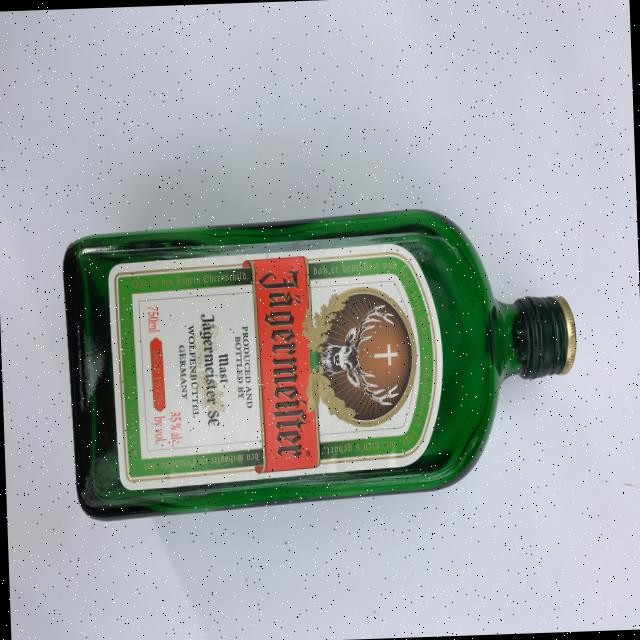glass: (31, 177, 608, 538)
